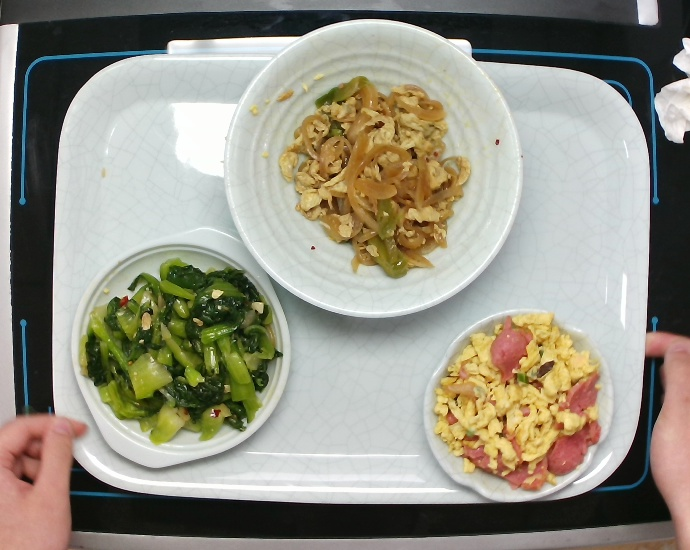JYsf-Ao_Yuan_Wan: (415, 298, 624, 507)
JYsf-Shuang_Er_Pan: (63, 220, 296, 474)
JYsf-Xiao_Tang_Wan: (222, 15, 526, 324)
